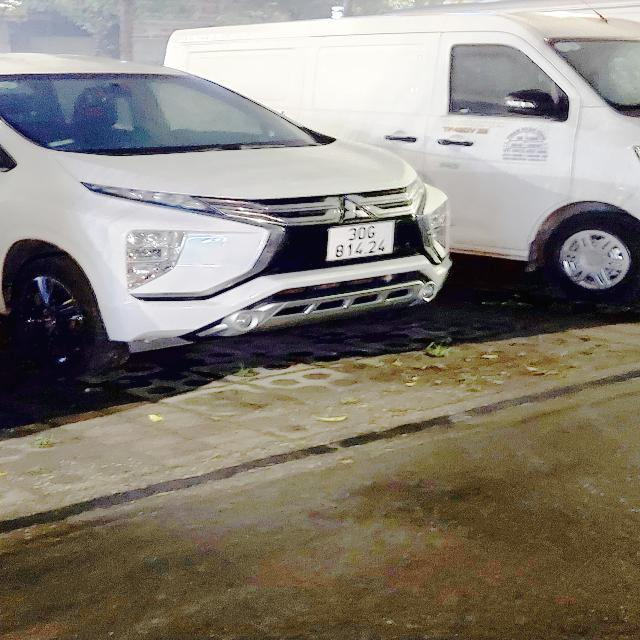license_plate: (326, 220, 401, 263)
